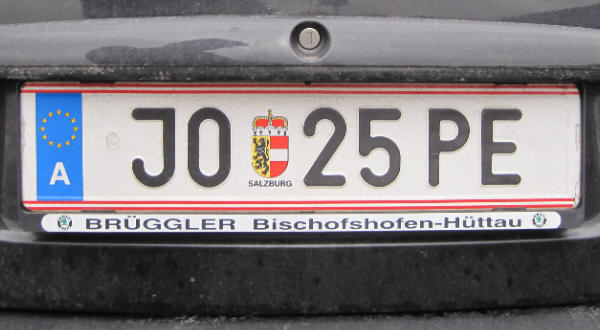license_plate: (21, 82, 581, 211)
